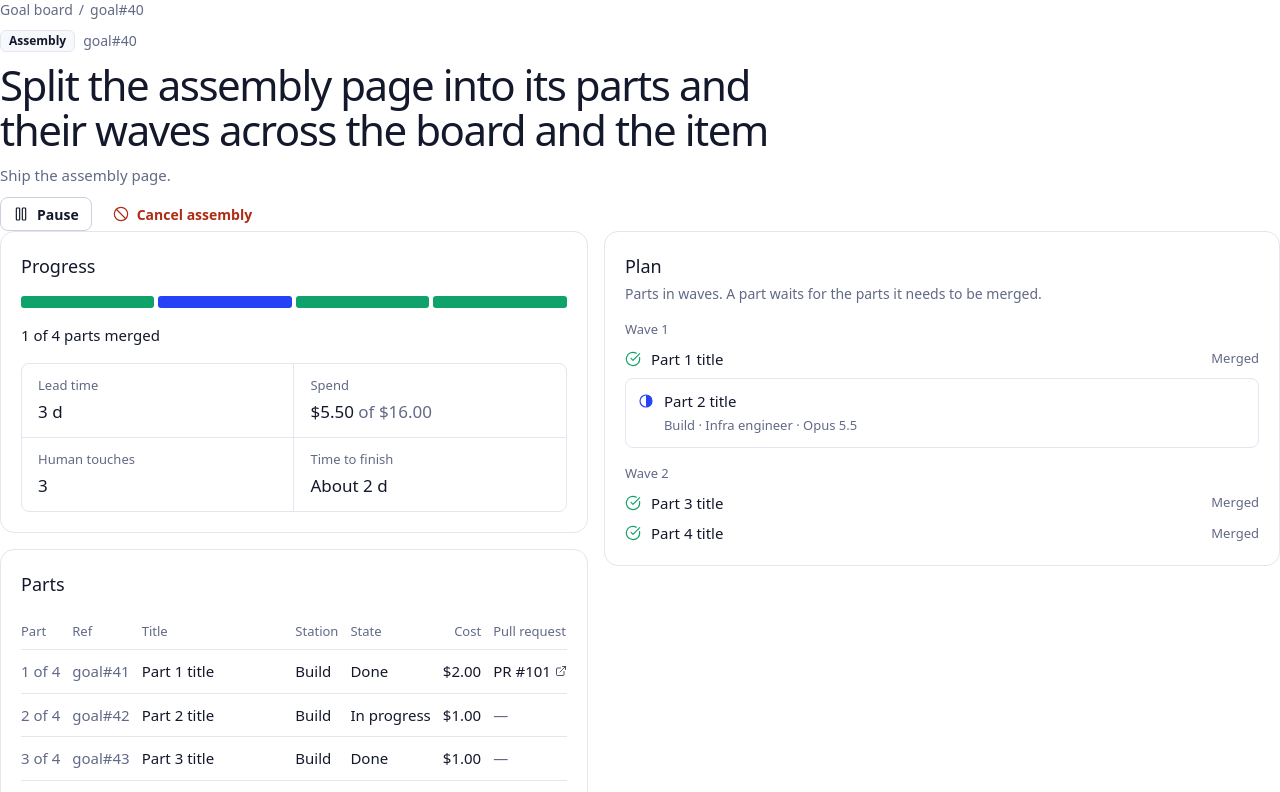
AssemblyPage actions › names a single open part in the singular
This screenshot has width=1280, height=792.
Expected: the heading named "Split the assembly page into its parts and their waves acros" is shown, [0, 62, 820, 153]
Click the button "Cancel assembly". click: (182, 214)
box: [100, 197, 265, 231]
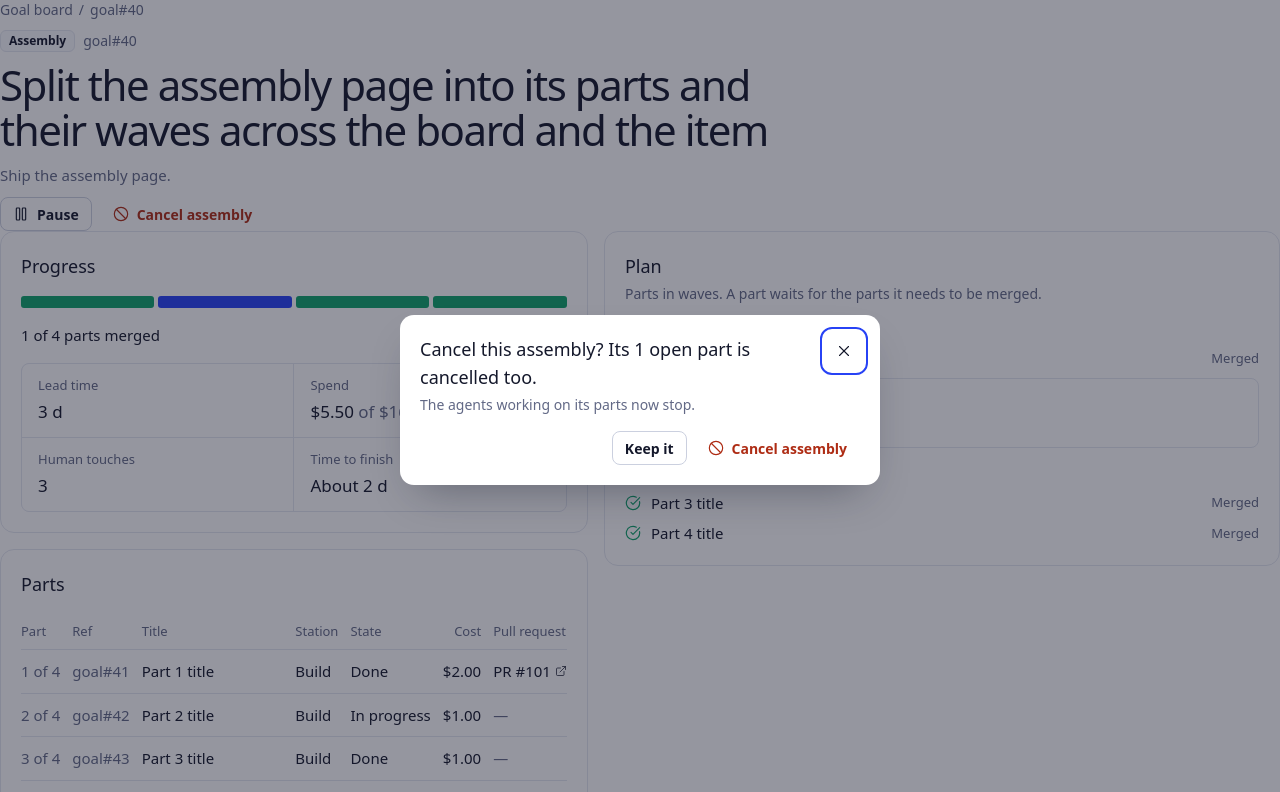
Expected: the dialog "Cancel this assembly? Its 1 open part is cancelled too." is shown, [400, 315, 880, 485]
